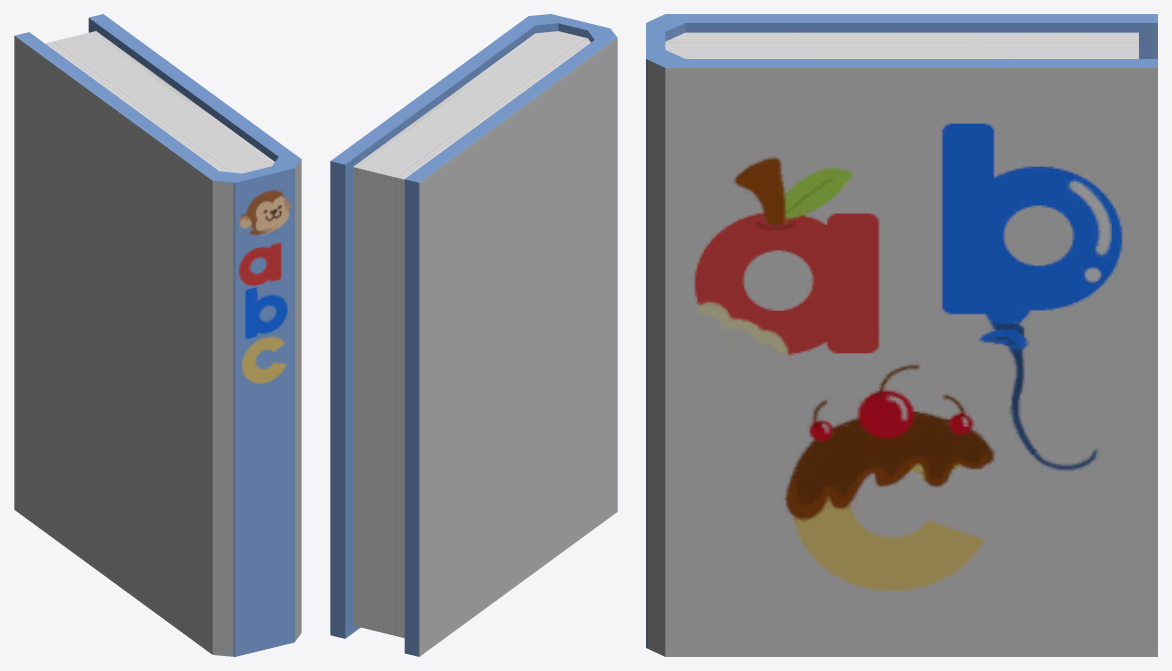
Rendered from BookABC.fbx.
The picture shows the model from 3 angles, left to right: view 1: azimuth 30°, elevation 25°; view 2: azimuth 150°, elevation 25°; view 3: azimuth 270°, elevation 25°; orthographic projection. The views are drawn at different scales.
Parts seen in each view (by area): view 1: Cube.003; view 2: Cube.003; view 3: Cube.003.
Boxes of the visible parts, x1,y1,x2,y2 form: Cube.003: (14, 14, 301, 656); Cube.003: (330, 14, 617, 656); Cube.003: (646, 14, 1157, 656).
Bounding box in the file's own units: 47.11 × 240 × 189.
